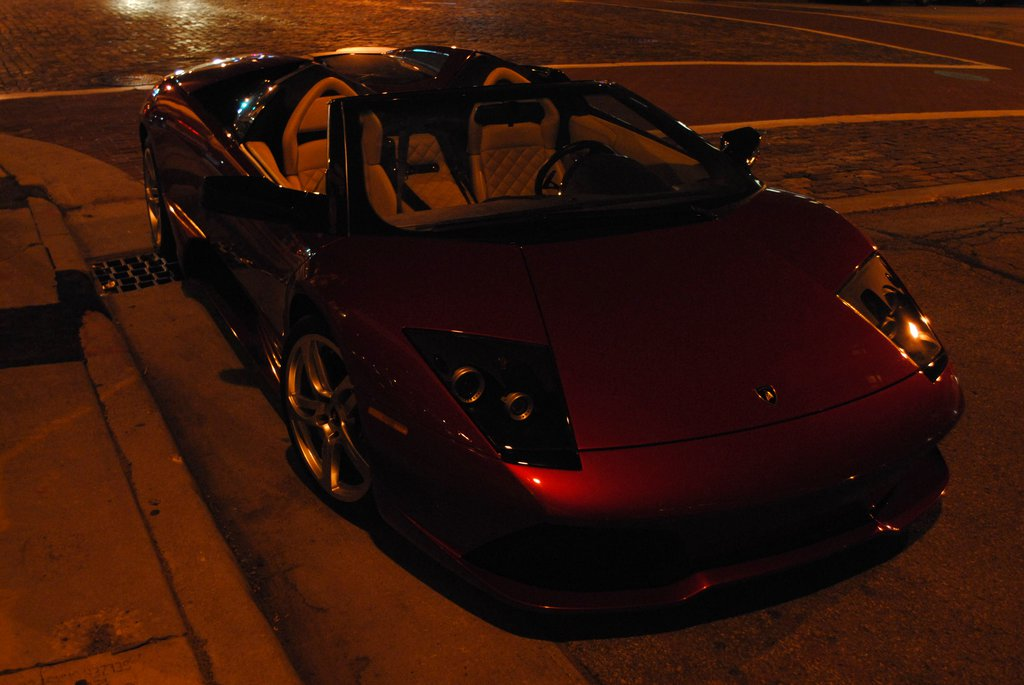car: (125, 28, 976, 652)
